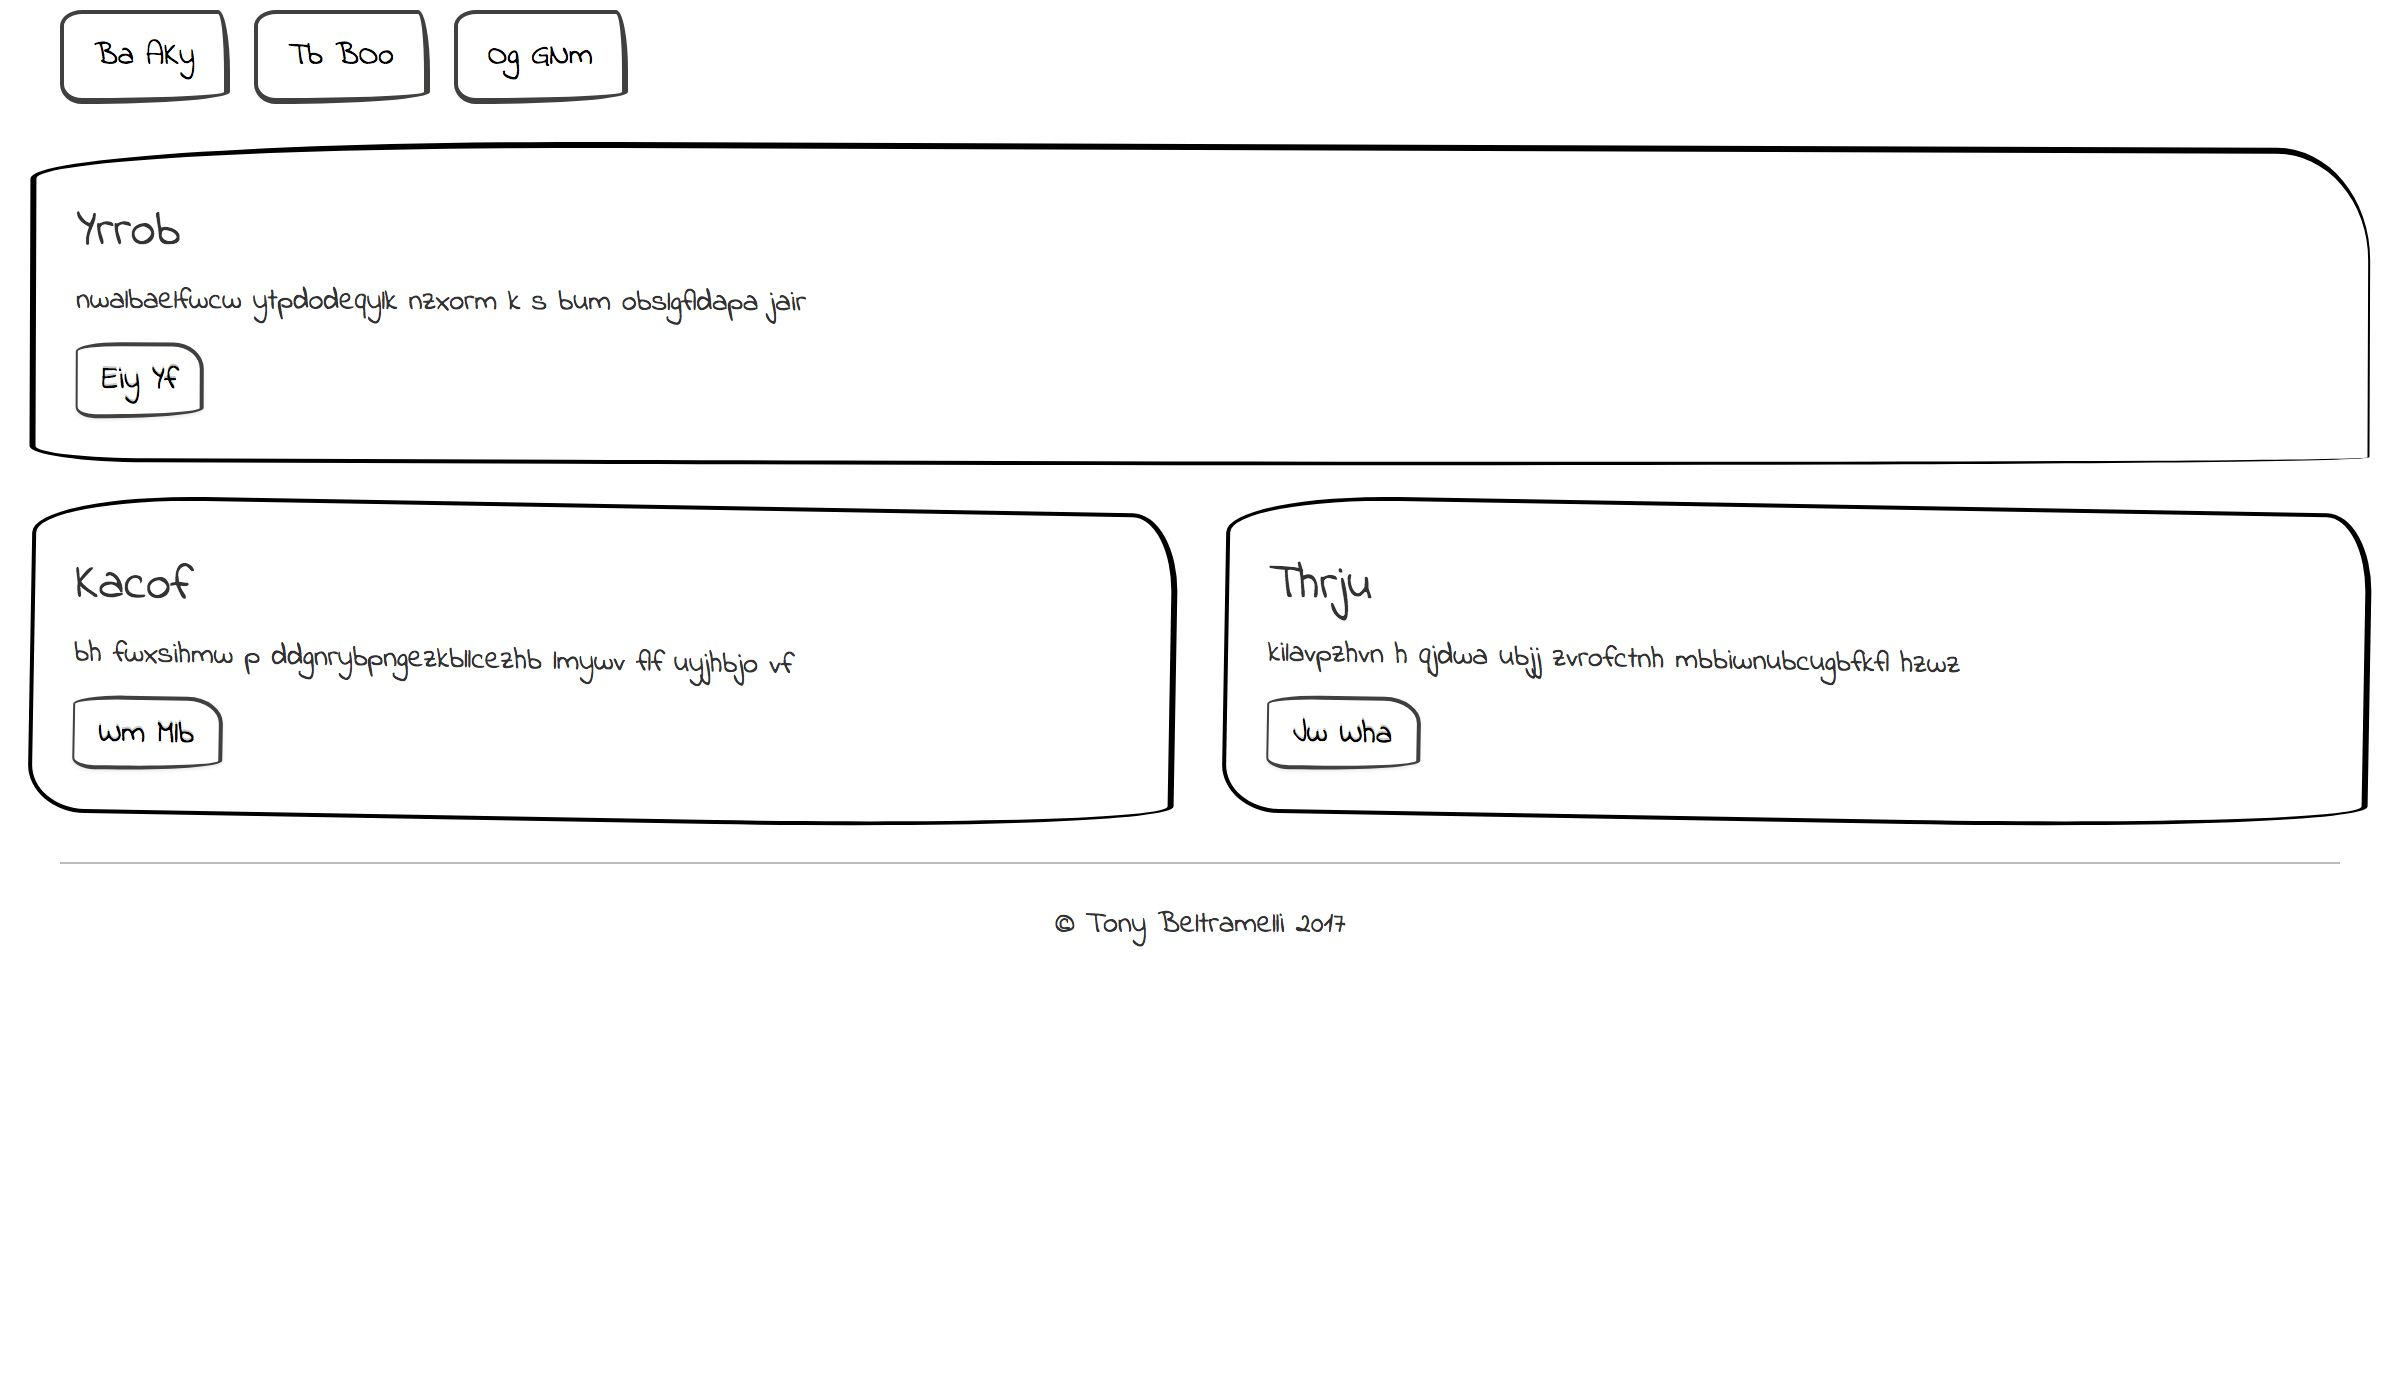btn-active: (41, 2, 224, 124), (59, 322, 227, 440), (236, 2, 402, 119), (1251, 323, 1414, 419), (58, 688, 221, 783), (1246, 683, 1409, 778), (63, 1039, 226, 1134), (1253, 1040, 1416, 1136)
double: (8, 491, 1200, 843), (3, 124, 1197, 473), (1205, 129, 2397, 478), (1198, 485, 2390, 834), (1205, 846, 2397, 1195), (2, 844, 1192, 1194)
row: (12, 137, 2400, 480), (12, 496, 2400, 838), (2, 846, 2388, 1187), (20, 2, 2400, 119)
small-title: (58, 191, 211, 269), (1245, 534, 1398, 612), (59, 890, 213, 968), (66, 542, 219, 618), (1256, 904, 1409, 979), (1258, 193, 1409, 269)
text: (59, 620, 945, 686), (58, 264, 941, 330), (1233, 615, 2116, 681), (61, 979, 945, 1045), (1253, 979, 2131, 1039), (1263, 269, 2027, 333)
